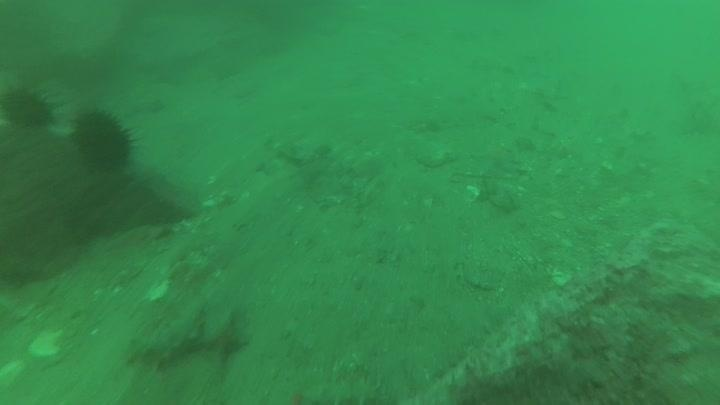echinus: (69, 104, 140, 174), (1, 82, 57, 131)
holothurian: (123, 296, 211, 372), (296, 370, 390, 405)
starfish: (195, 306, 253, 370)
